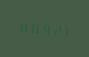eight: (18, 17, 27, 35)
nine: (38, 19, 47, 37)
one: (58, 21, 67, 38)
two: (48, 20, 57, 38)
zero: (28, 18, 37, 36)
